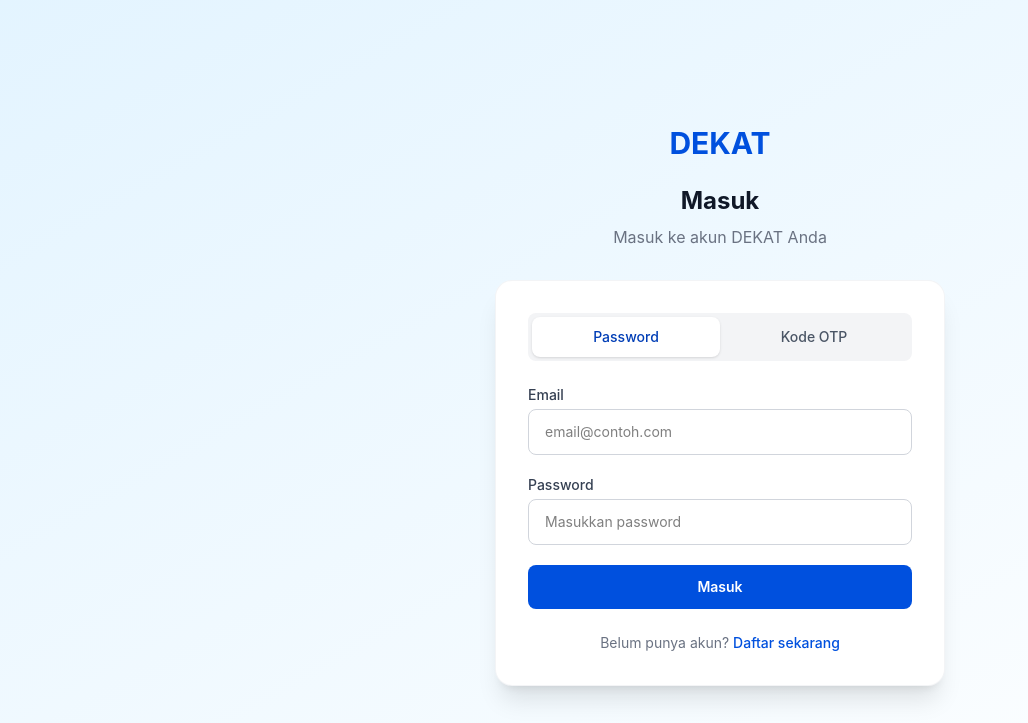
Test: LoginPage › switches to OTP mode
Click the button "Kode OTP" at (814, 337), box [720,317,908,357]
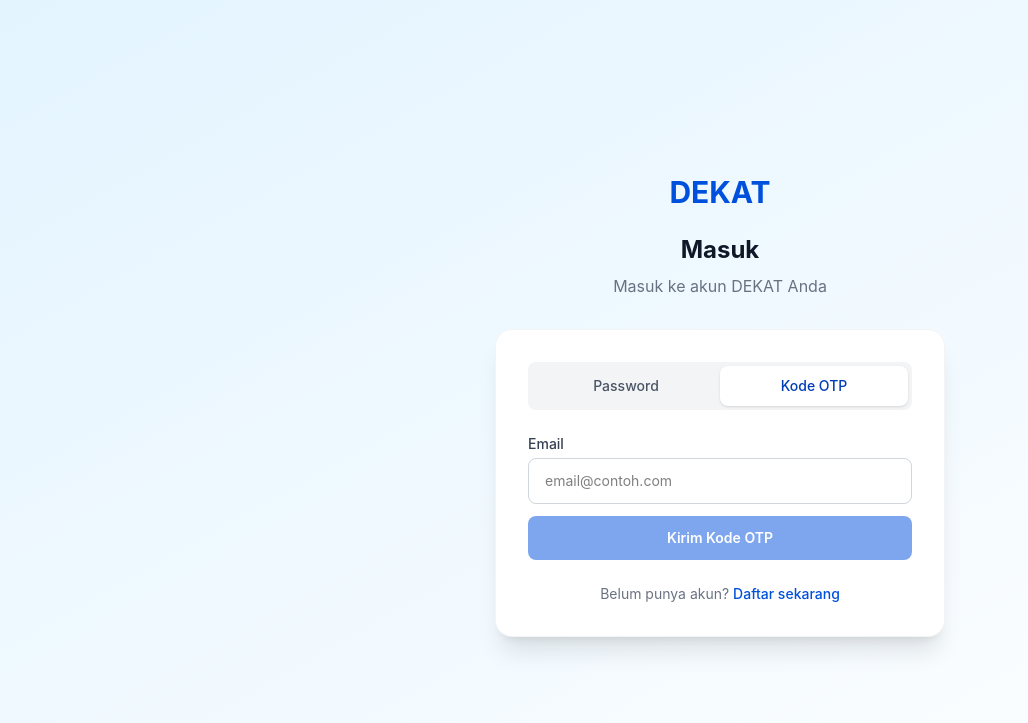
Expected: the button "Kirim Kode OTP" is shown, [528,516,912,560]
